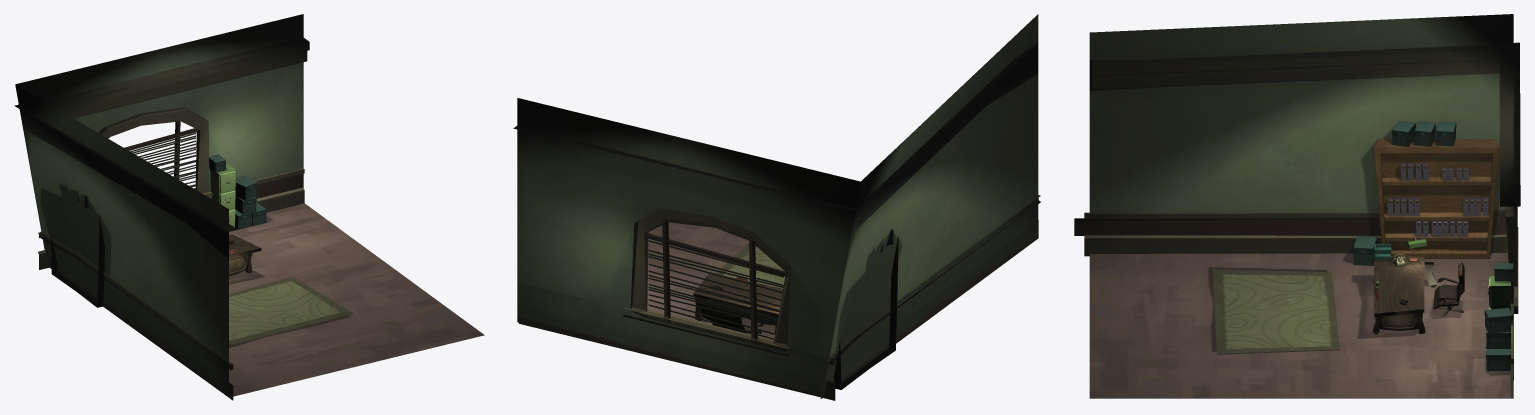
File: bossOffice01.fbx
The picture shows the model from 3 angles, left to right: view 1: azimuth 30°, elevation 25°; view 2: azimuth 150°, elevation 25°; view 3: azimuth 270°, elevation 25°; orthographic projection. The views are drawn at different scales.
Parts seen in each view (by area): view 1: polySurface816; view 2: polySurface816; view 3: polySurface816.
Part boxes in pixels (x1,y1,x2,y2): polySurface816: (14, 14, 484, 400); polySurface816: (513, 14, 1040, 400); polySurface816: (1074, 14, 1520, 398).
Size of the model in its own units: 35.43 by 22.5 by 40.56.
